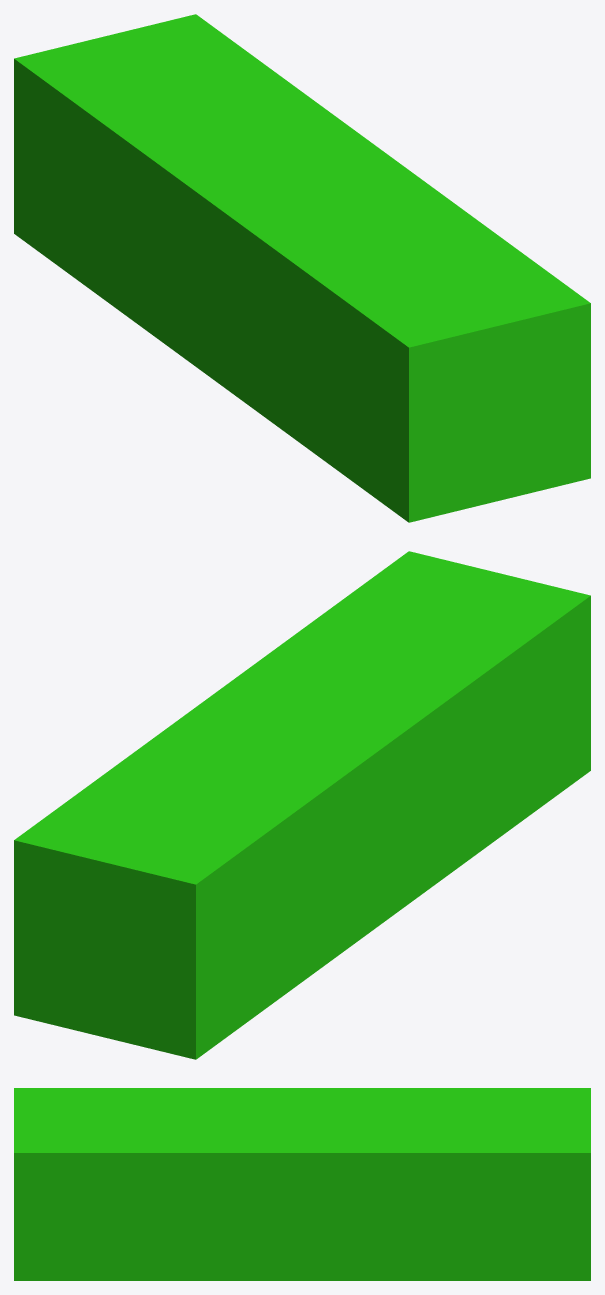
Rendered from bush_1_light_short.fbx.
3 renders of one model, top to bottom at view 1: azimuth 30°, elevation 25°; view 2: azimuth 150°, elevation 25°; view 3: azimuth 270°, elevation 25°, orthographic. The views are drawn at different scales.
Visible parts, largest first — view 1: Cube.061; view 2: Cube.061; view 3: Cube.061.
Boxes of the visible parts, box(x1,y1,x2,y2) form: Cube.061: box(14, 14, 590, 522); Cube.061: box(14, 551, 590, 1059); Cube.061: box(14, 1088, 590, 1280).
Bounding box in the file's own units: 217 × 200 × 817.
Materials: 1 (1 with a texture image).
